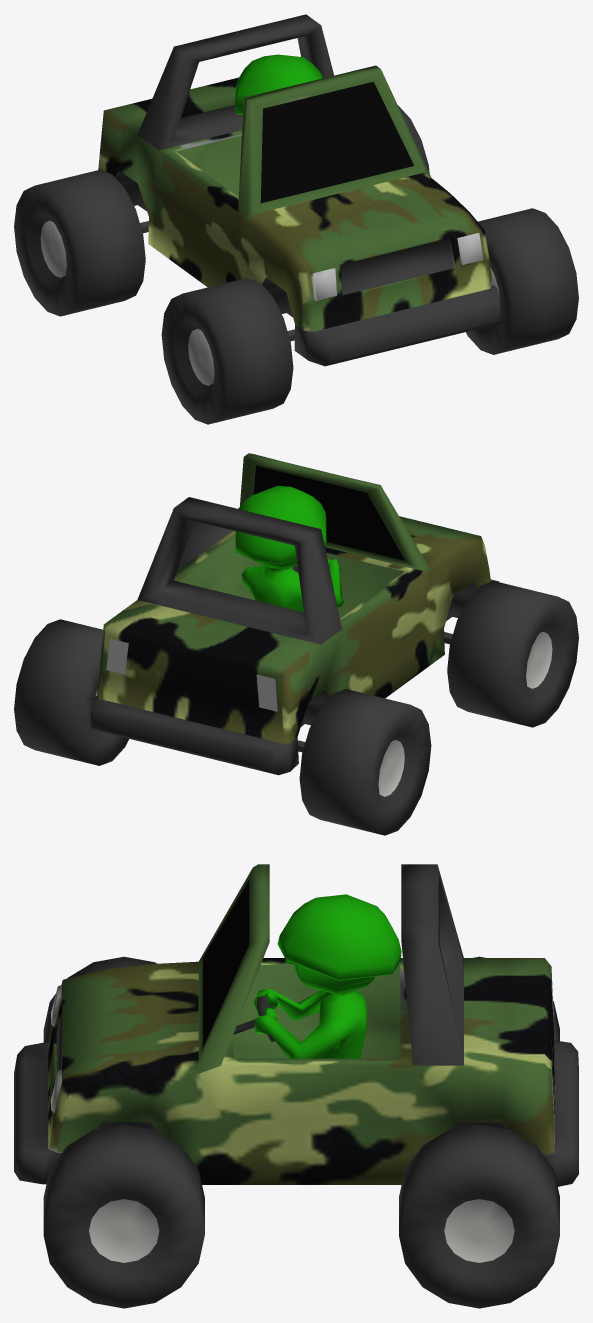
The model's file is jeep.DAE.
3 views of the same model, one above another, from view 1: azimuth 30°, elevation 25°; view 2: azimuth 150°, elevation 25°; view 3: azimuth 270°, elevation 25° (orthographic). The views are drawn at different scales.
Parts seen in each view (by area): view 1: jeep; view 2: jeep; view 3: jeep.
Part boxes in pixels (left/top/right/bottom): jeep: left=14, top=14, right=578, bottom=424; jeep: left=14, top=453, right=578, bottom=835; jeep: left=14, top=864, right=578, bottom=1308.
Size of the model in its own units: 17.18 by 19.94 by 11.83.
Materials: 1 (1 with a texture image).
